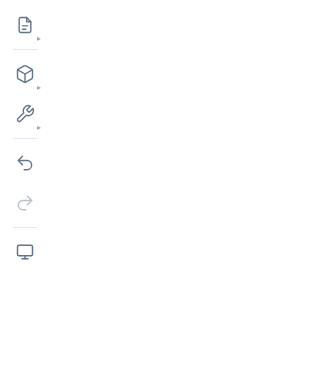
Test: OperationsRail › opens each menu to the right of its button, headed by its name
What coordinates should you click on to do the following:
click the button with test id "builder-tools"
I would click on:
 (25, 114)
Its box is [6,95,44,133].
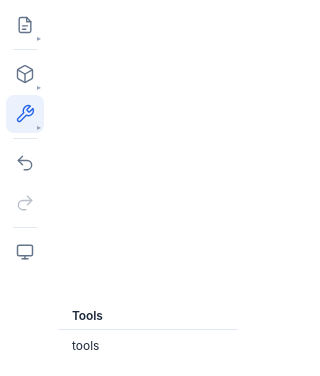
Check: the text with test id "builder-tools-heading" reads "Tools", box [72,308,103,323]
What coordinates should you click on to do the following:
click the menu item with test id "tools-item"
I would click on:
 (148, 346)
Its box is [58,332,238,359].
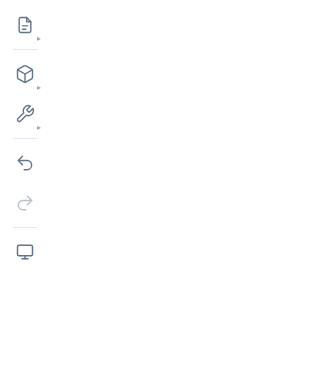
Check: the menu with test id "builder-tools-menu" is gone
